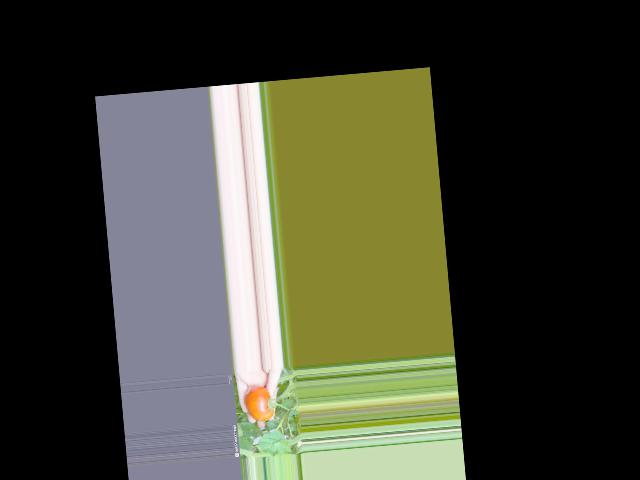tomato: (244, 384, 274, 422)
